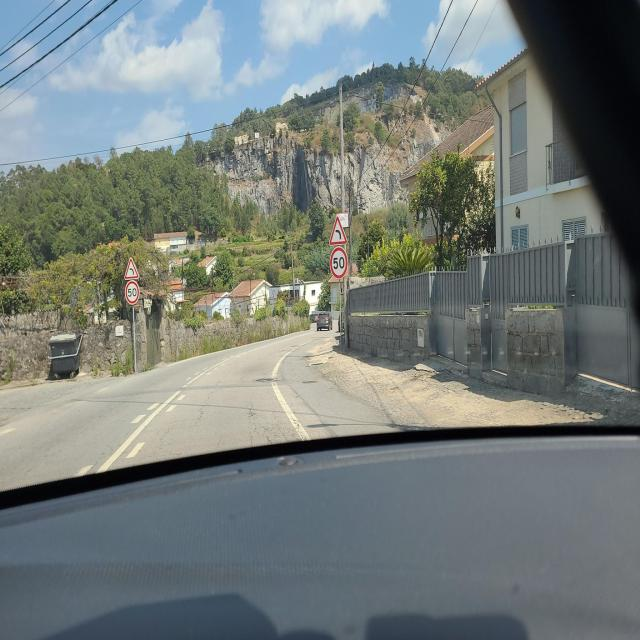car: (47, 332, 81, 378)
